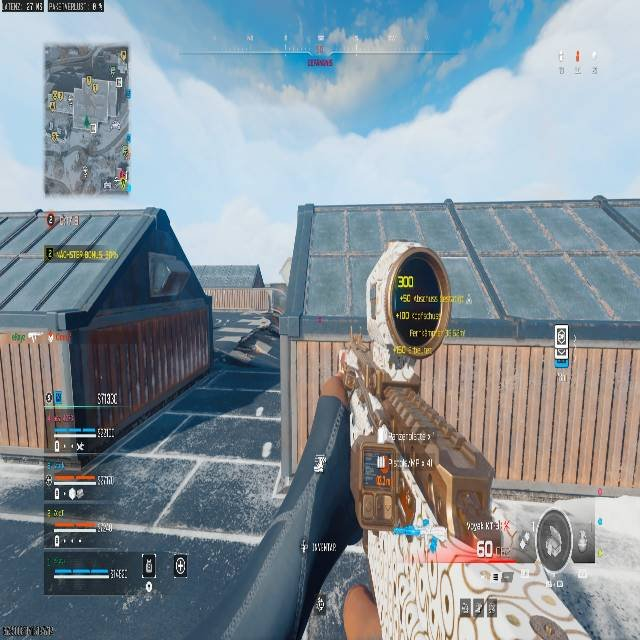head: (378, 277, 445, 355)
player: (266, 306, 281, 336)
